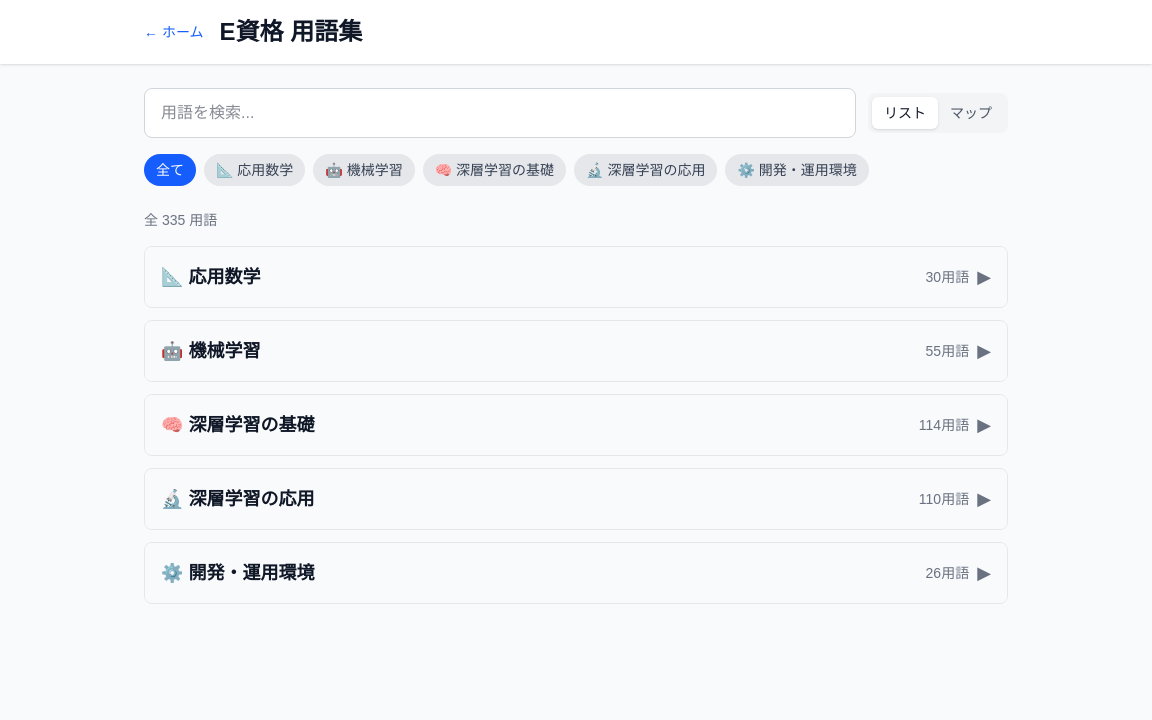
GlossaryPage › マップタブをクリックするとマップビューに切り替わる
This screenshot has width=1152, height=720.
Click the tab "マップ" at point(971, 113), box [938,97,1004,129]
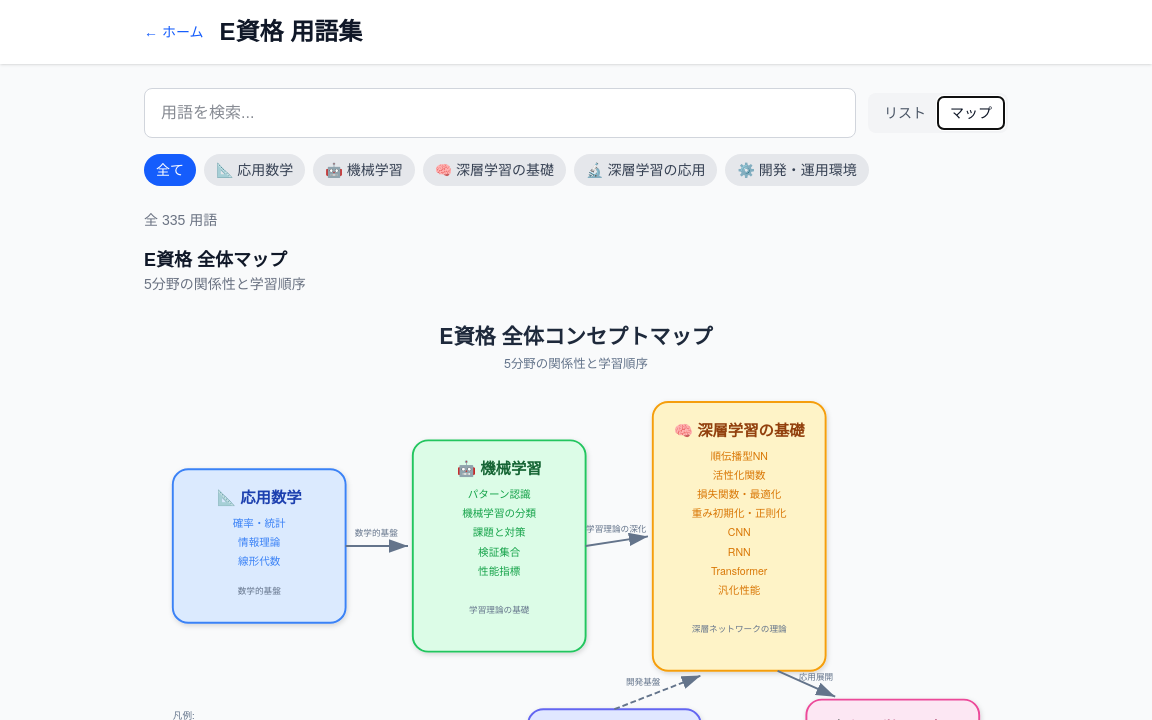
Result: the heading "E資格 全体マップ" is shown at [144,250,287,270]
